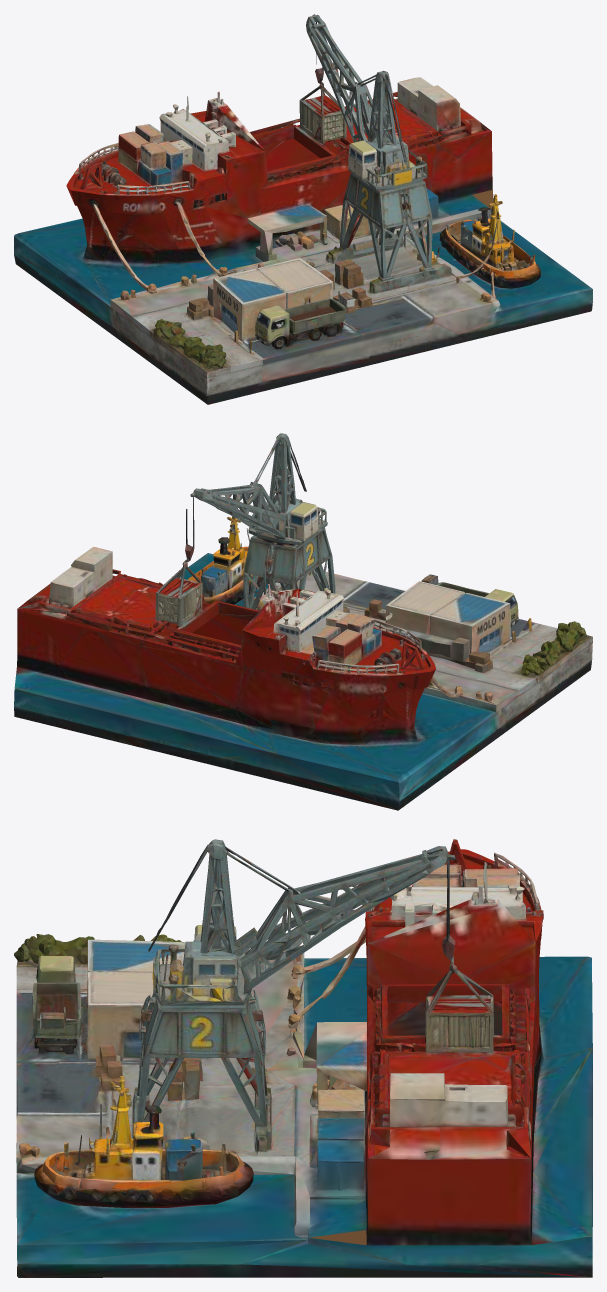
File: porto.glb
The picture shows the model from 3 angles, top to bottom: view 1: azimuth 30°, elevation 25°; view 2: azimuth 150°, elevation 25°; view 3: azimuth 270°, elevation 25°; orthographic projection. The views are drawn at different scales.
Parts seen in each view (by area): view 1: output_unwrapped; view 2: output_unwrapped; view 3: output_unwrapped.
Boxes of the visible parts, x1=… form: output_unwrapped: x1=14, y1=14, x2=592, y2=404; output_unwrapped: x1=14, y1=433, x2=592, y2=810; output_unwrapped: x1=14, y1=839, x2=592, y2=1277.
Bounding box in the file's own units: 1.9 × 1.02 × 1.59.
1 material, 1 textured.
